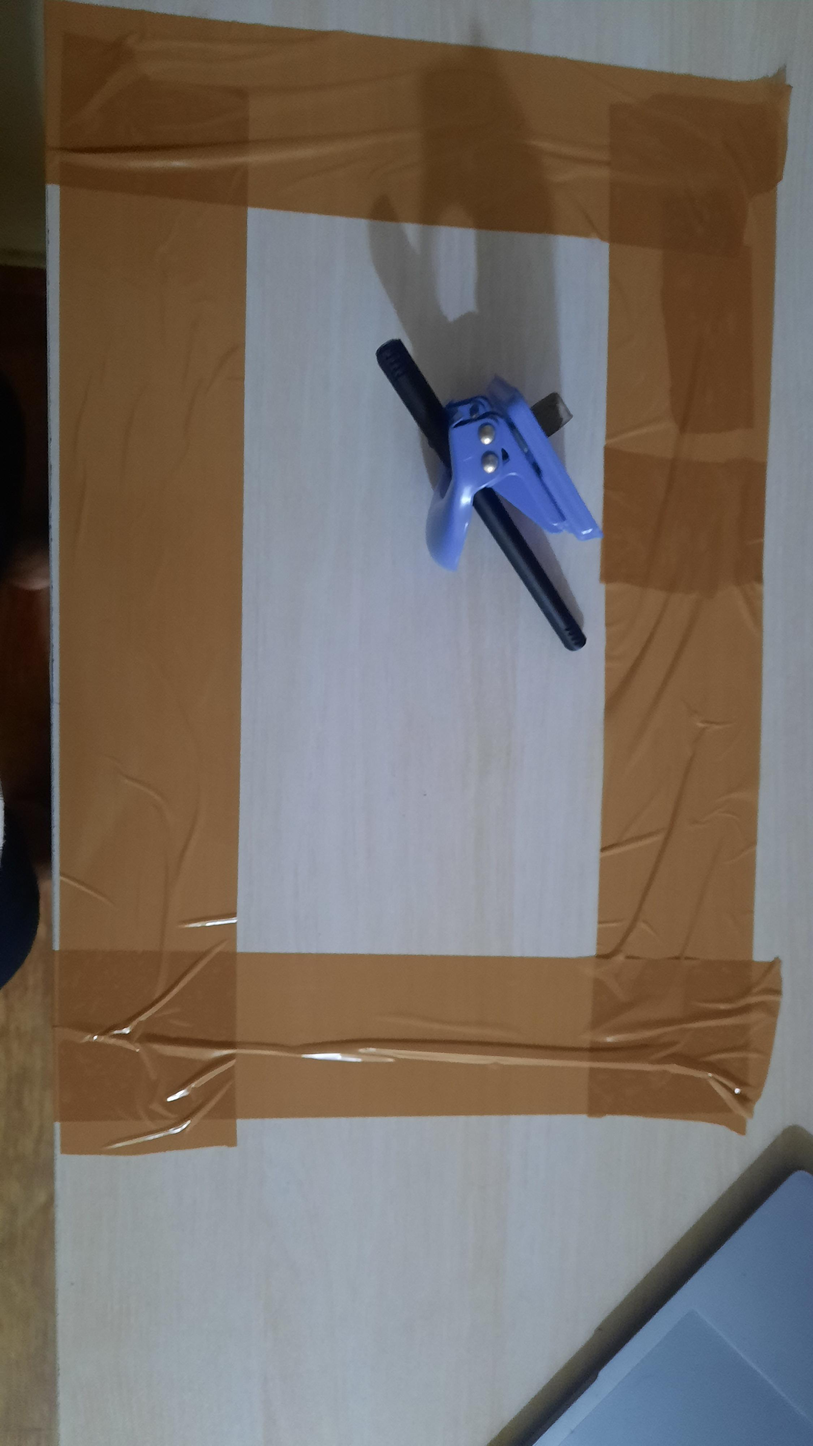Pen: (375, 338, 586, 652)
Punch: (425, 373, 603, 574)
